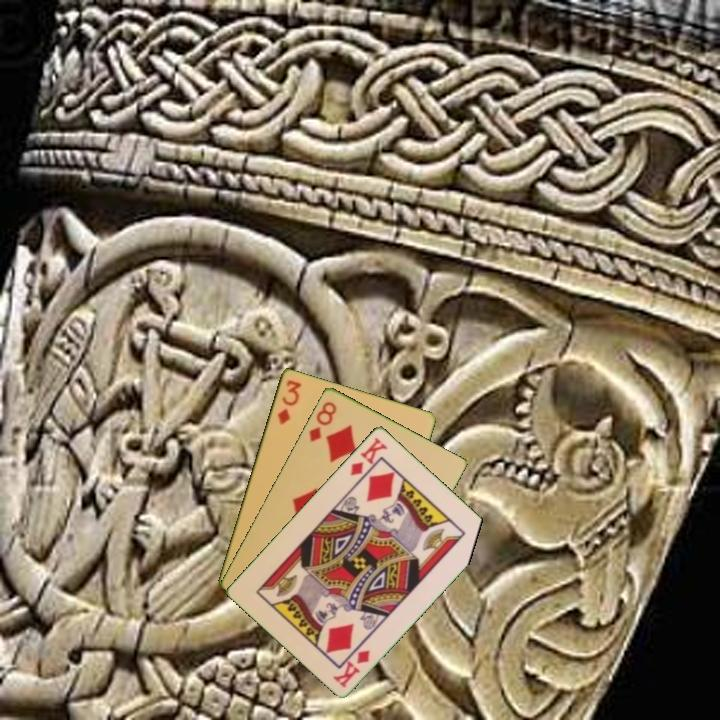3d: (273, 376, 304, 428)
8d: (305, 398, 339, 445)
Kd: (346, 433, 390, 478), (330, 646, 373, 690)
